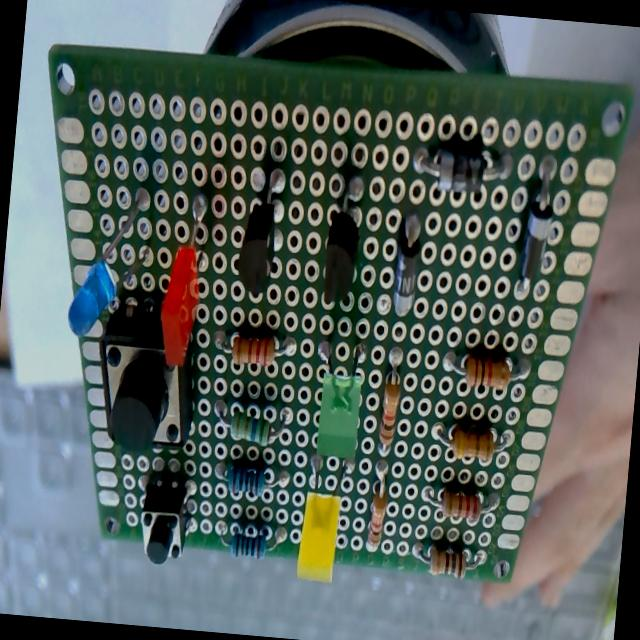diode: (514, 159, 558, 298), (411, 140, 510, 198), (389, 214, 422, 318)
led: (64, 184, 148, 336), (154, 190, 213, 369), (307, 339, 366, 460), (294, 452, 346, 582)
resistor: (212, 398, 290, 448), (443, 347, 530, 391), (434, 419, 508, 465), (214, 325, 297, 365), (424, 481, 498, 525), (411, 538, 486, 580), (376, 345, 405, 452), (218, 519, 284, 563), (364, 455, 392, 554), (224, 458, 270, 501)
switch: (90, 301, 196, 454), (136, 480, 190, 567)
transistor: (232, 162, 288, 298), (319, 173, 368, 307)
